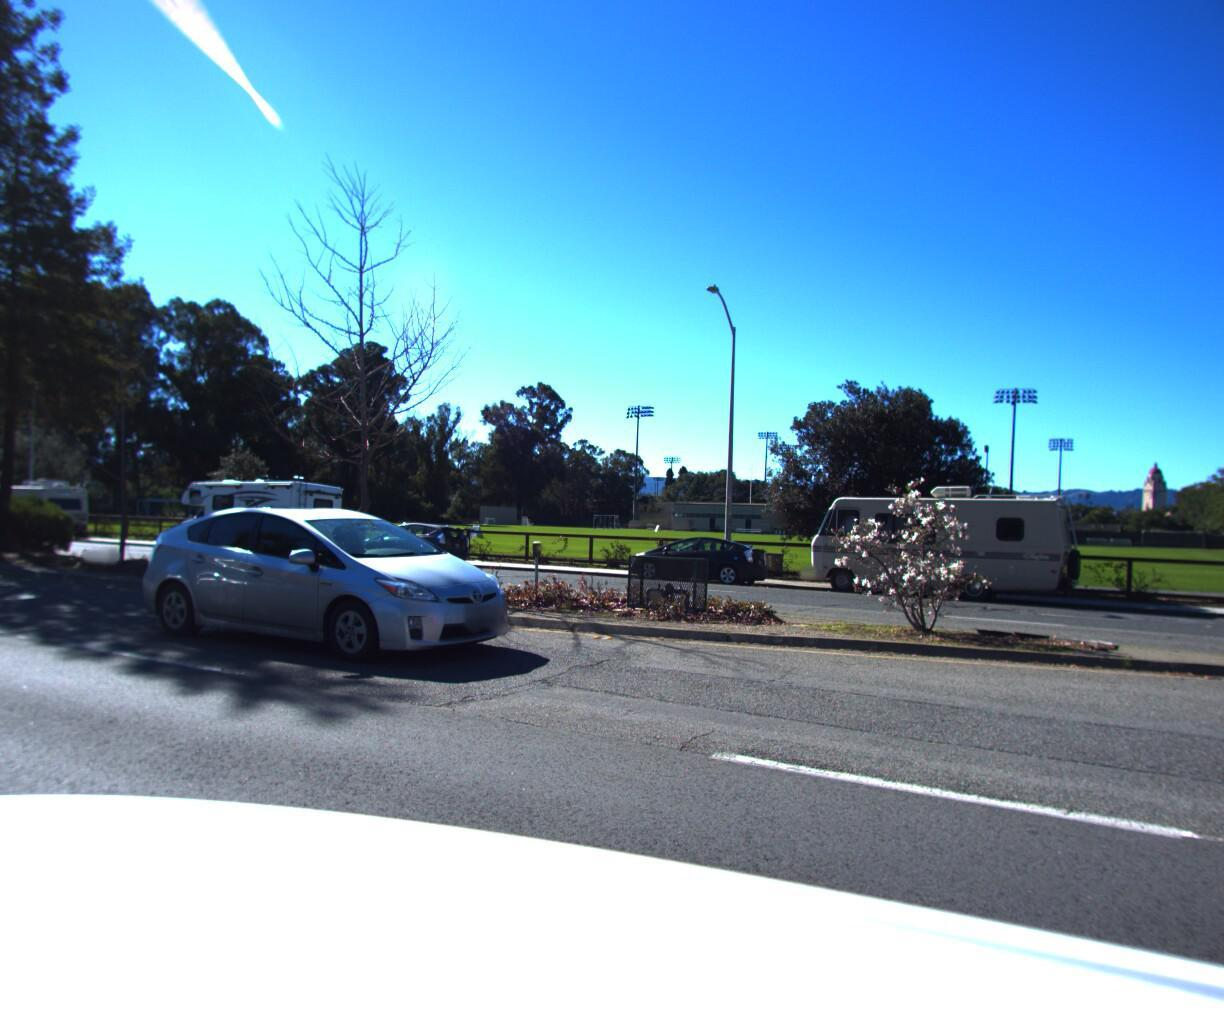car: (117, 477, 545, 674), (618, 529, 780, 582), (354, 517, 480, 561)
other_vehicle: (798, 472, 1092, 601), (167, 466, 349, 557), (0, 468, 99, 535)
